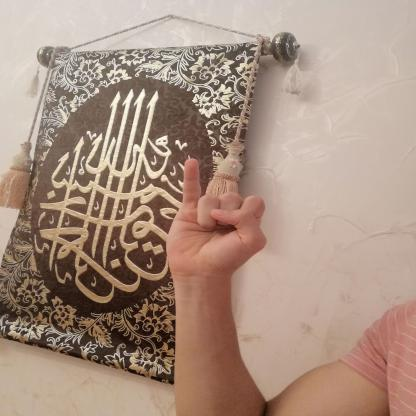MEEM: (146, 150, 280, 290)
